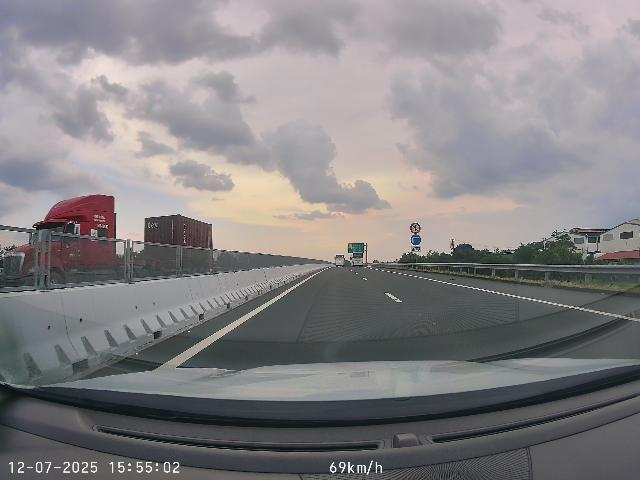136-cam-di-thang: (410, 223, 421, 234)
301d-cac-xe-chi-duoc-re-phai-2: (410, 234, 421, 245)
